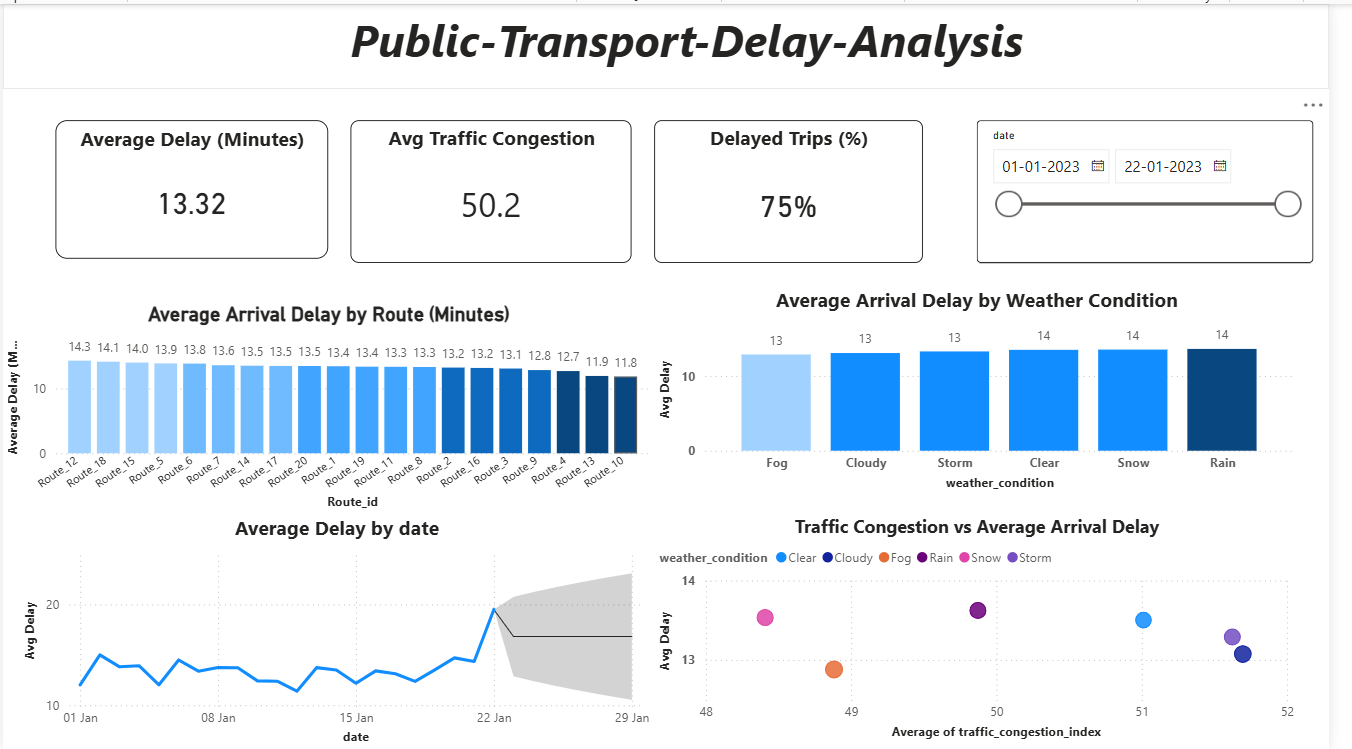

What the dashboard file says about the page in this screenshot:
{"tool":"powerbi","page":{"name":"Page 1","canvas":[1280,720],"ordinal":0},"visuals":[{"type":"columnChart","title":"Average Arrival Delay by Route (Minutes)","fields":{"Y":["public_transport_delays.Avg Delay"],"Category":["public_transport_delays.route_id"]},"box":[0,288.2,628.5,204.5],"z":0},{"type":"lineChart","title":"Average Delay by date","fields":{"Category":["public_transport_delays.date"],"Y":["public_transport_delays.Avg Delay"]},"box":[15.1,492.6,613.4,227.8],"z":1000},{"type":"clusteredColumnChart","title":"Average Arrival Delay by Weather Condition","fields":{"Y":["public_transport_delays.Avg Delay"],"Category":["public_transport_delays.weather_condition"]},"box":[628.5,273.1,623,201.7],"z":2000},{"type":"scatterChart","title":"Traffic Congestion vs Average Arrival Delay","fields":{"Y":["public_transport_delays.Avg Delay"],"Series":["public_transport_delays.weather_condition"],"Size":["Sum(public_transport_delays.event_attendance_est)"],"X":["public_transport_delays.traffic_congestion_index"]},"box":[628.5,492.6,623,222.3],"z":3000},{"type":"card","title":"Average Delay (Minutes)","fields":{"Values":["public_transport_delays.Avg Delay"]},"box":[50.7,112.2,263,133.9],"z":4000},{"type":"card","title":"Delayed Trips (%)","fields":{"Values":["public_transport_delays.Delay %"]},"box":[628.6,112.2,259.4,137.5],"z":5000},{"type":"card","title":"Avg Traffic Congestion","fields":{"Values":["Avg(public_transport_delays.traffic_congestion_index)"]},"box":[335.4,112.2,271.4,137.5],"z":6000},{"type":"textbox","box":[0,0,1280.3,82.3],"z":7000},{"type":"slicer","fields":{"Values":["public_transport_delays.date"]},"box":[939.8,112.2,324.5,137.5],"z":8000}]}

Visuals, with their boxes in screenshot pixels (x1, y1, x2, y2), scaled from the page's 1280x720 canvas onto the 1352x749 screenshot:
"Average Arrival Delay by Route (Minutes)" columnChart: bbox=[0, 300, 664, 513]
"Average Delay by date" lineChart: bbox=[16, 512, 664, 748]
"Average Arrival Delay by Weather Condition" clusteredColumnChart: bbox=[664, 284, 1322, 494]
"Traffic Congestion vs Average Arrival Delay" scatterChart: bbox=[664, 512, 1322, 744]
"Average Delay (Minutes)" card: bbox=[54, 117, 331, 256]
"Delayed Trips (%)" card: bbox=[664, 117, 938, 260]
"Avg Traffic Congestion" card: bbox=[354, 117, 641, 260]
textbox: bbox=[0, 0, 1351, 86]
slicer - public_transport_delays.date: bbox=[993, 117, 1335, 260]
